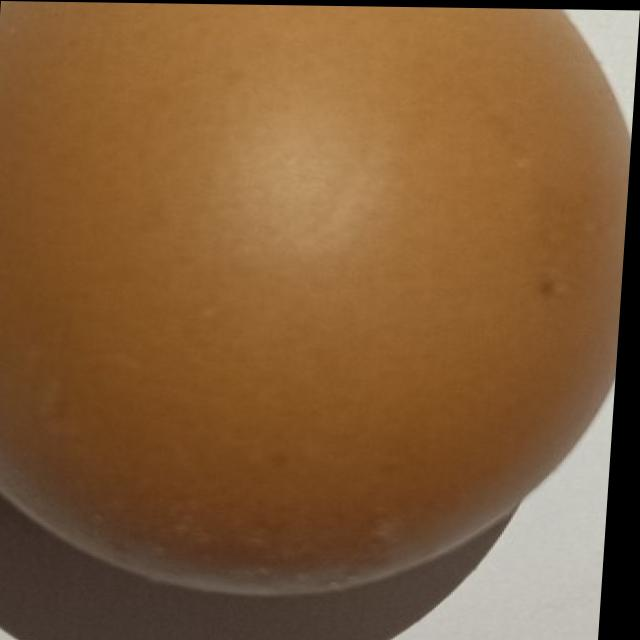fresh: (0, 0, 640, 600)
